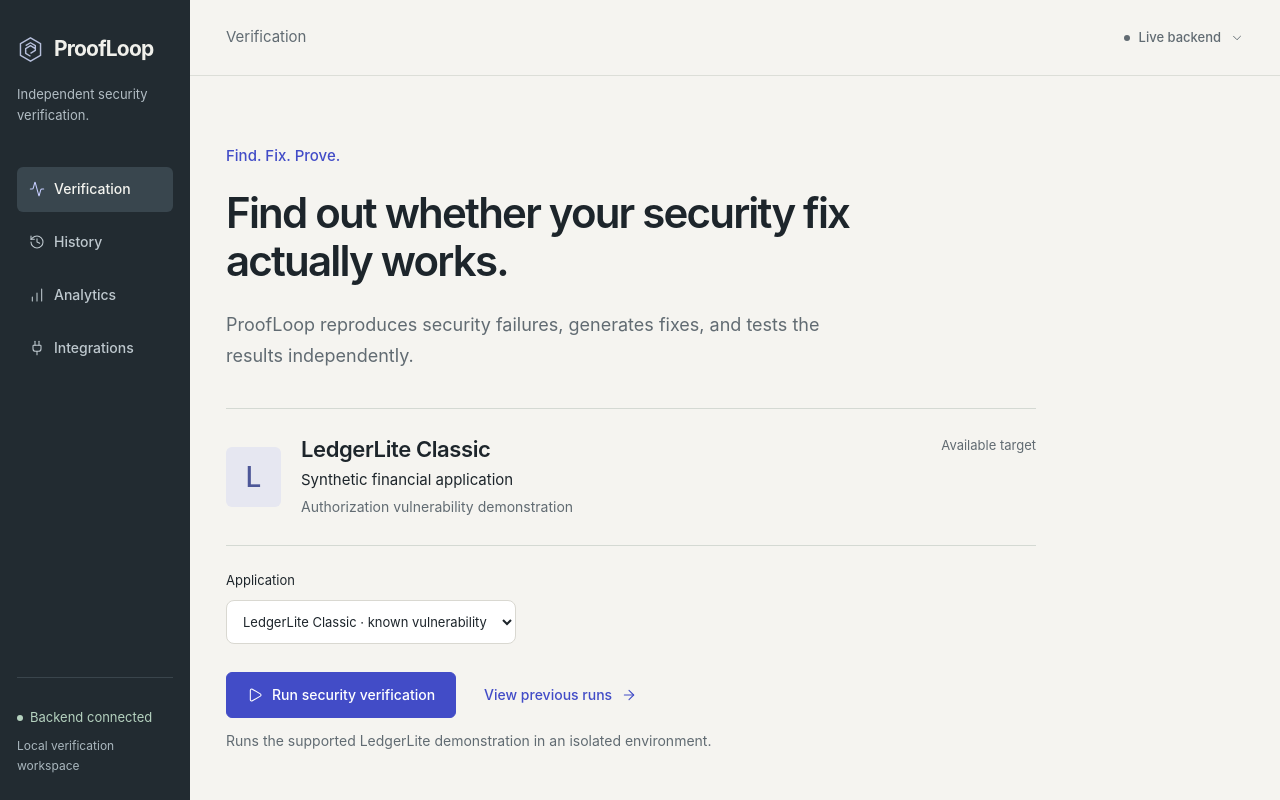
Test: guided investigation workspace › keeps fixture outcomes illustrative and cannot execute from preview
Click the button named "change data source" at point(1184, 38), box [1124,16,1244,58]
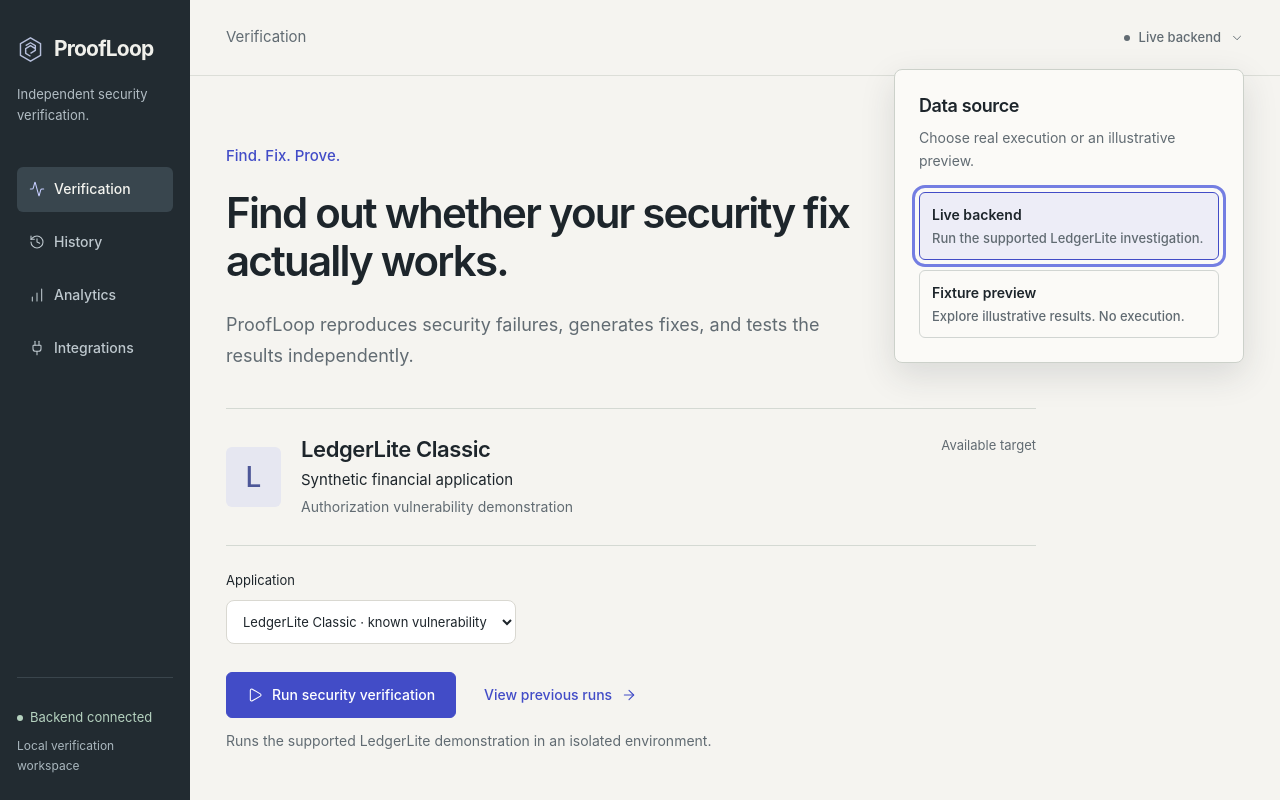
Click the button "Fixture preview Explore illustrative results. No execution." at point(984, 293), box [919,270,1219,338]
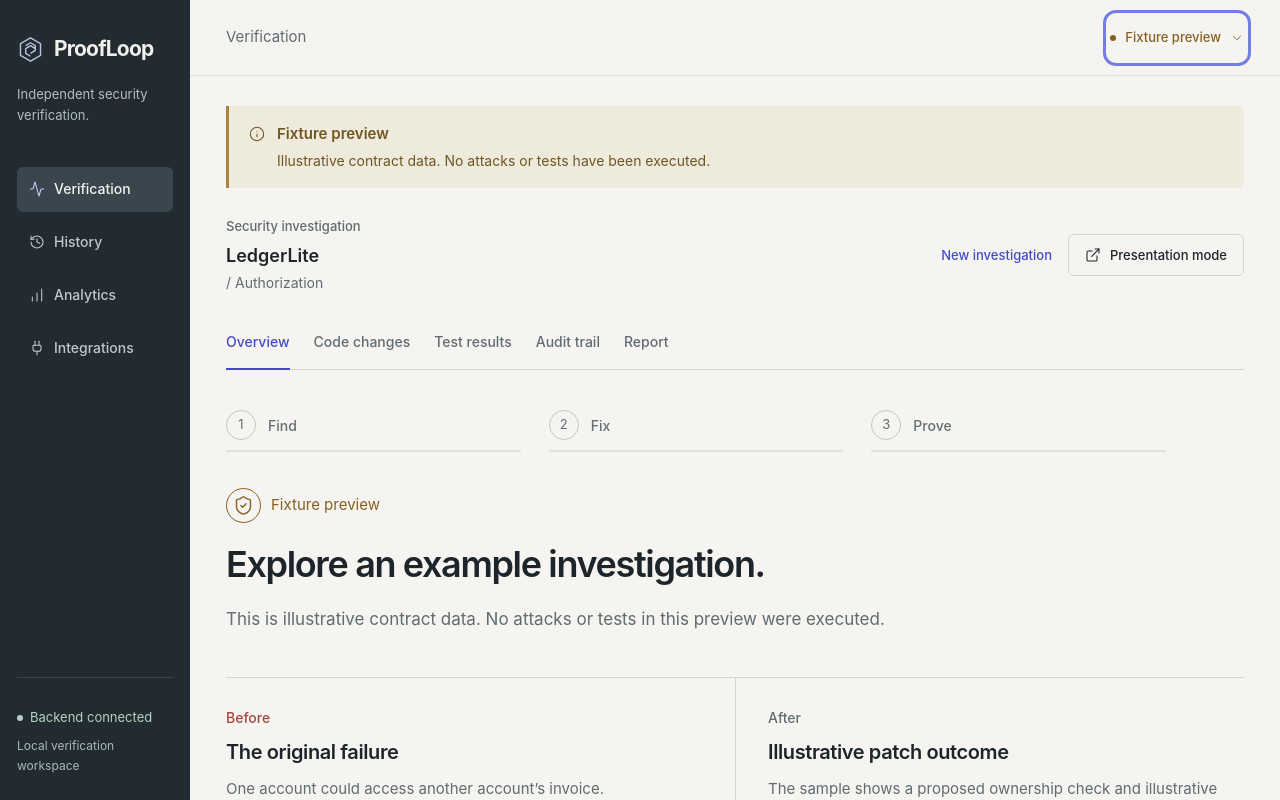
Result: the text "Illustrative contract data" is shown at [277,152,710,169]
Result: the heading "Explore an example investigation." is shown at [226,542,765,586]
Result: the button "Run security verification" is gone
Click the tab "Test results" at point(473, 344), box [434,318,512,369]
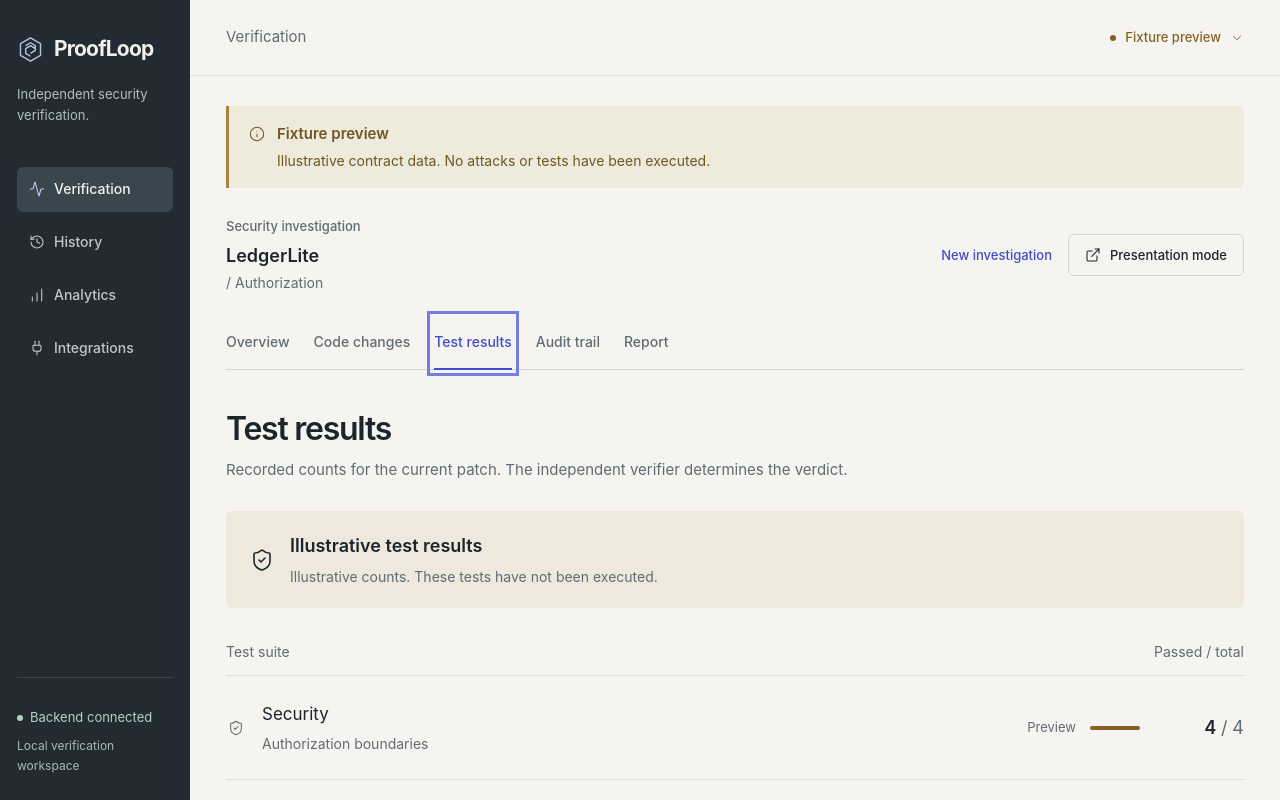
Result: the text "Illustrative counts. These tests have not been executed." is shown at [290,565,658,588]
